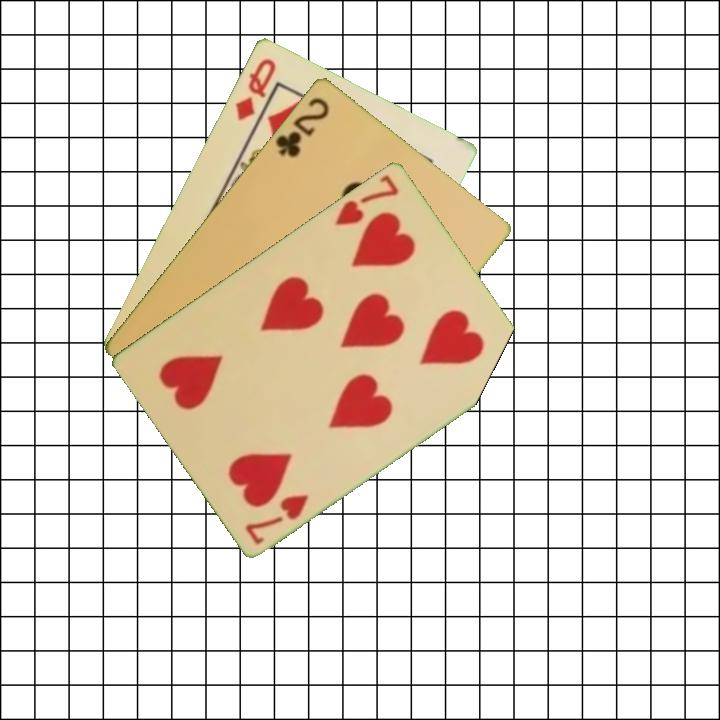2c: (271, 93, 333, 161)
7h: (331, 170, 402, 228), (241, 490, 312, 547)
Qd: (231, 54, 279, 123)
